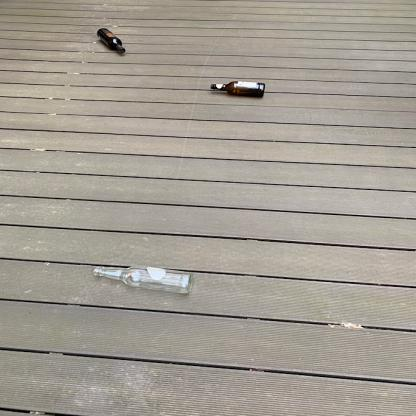trash: (91, 263, 197, 296), (207, 80, 270, 98), (94, 28, 128, 56)
